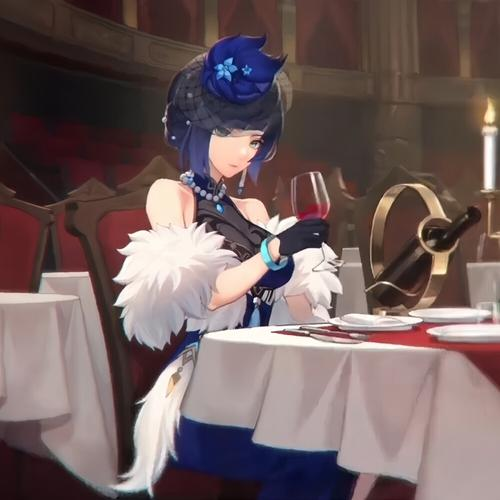夜兰: (110, 35, 351, 500)
